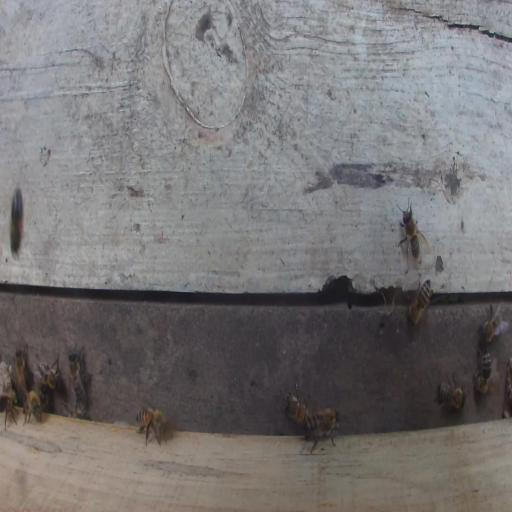bee: (396, 198, 429, 265), (303, 406, 340, 453), (68, 349, 94, 406), (407, 275, 432, 327), (478, 302, 508, 344), (436, 372, 467, 412), (136, 407, 167, 446), (283, 382, 311, 425), (10, 187, 23, 257), (15, 342, 29, 403), (474, 349, 492, 396), (36, 359, 62, 391), (23, 389, 43, 425), (0, 392, 18, 431), (40, 384, 49, 411)
